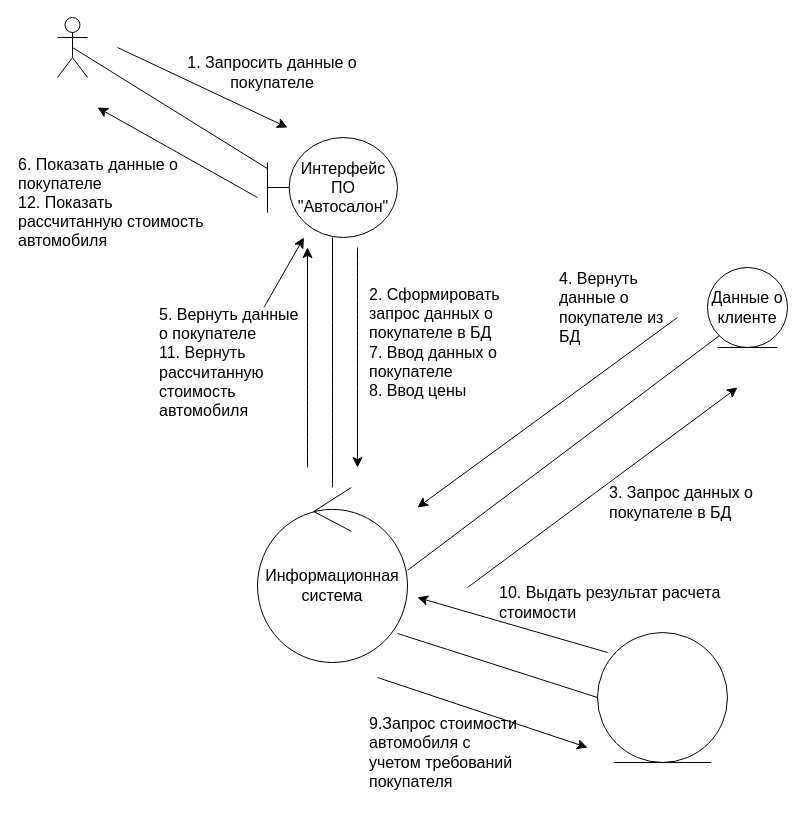
Image size: 805x825. Some labels were removed from this diagram. The centre of each missing label's shape, as x and y in pixels:
Окно формирования стоимости автомобиля: point (662, 697)
Покупатель: point (72, 47)
